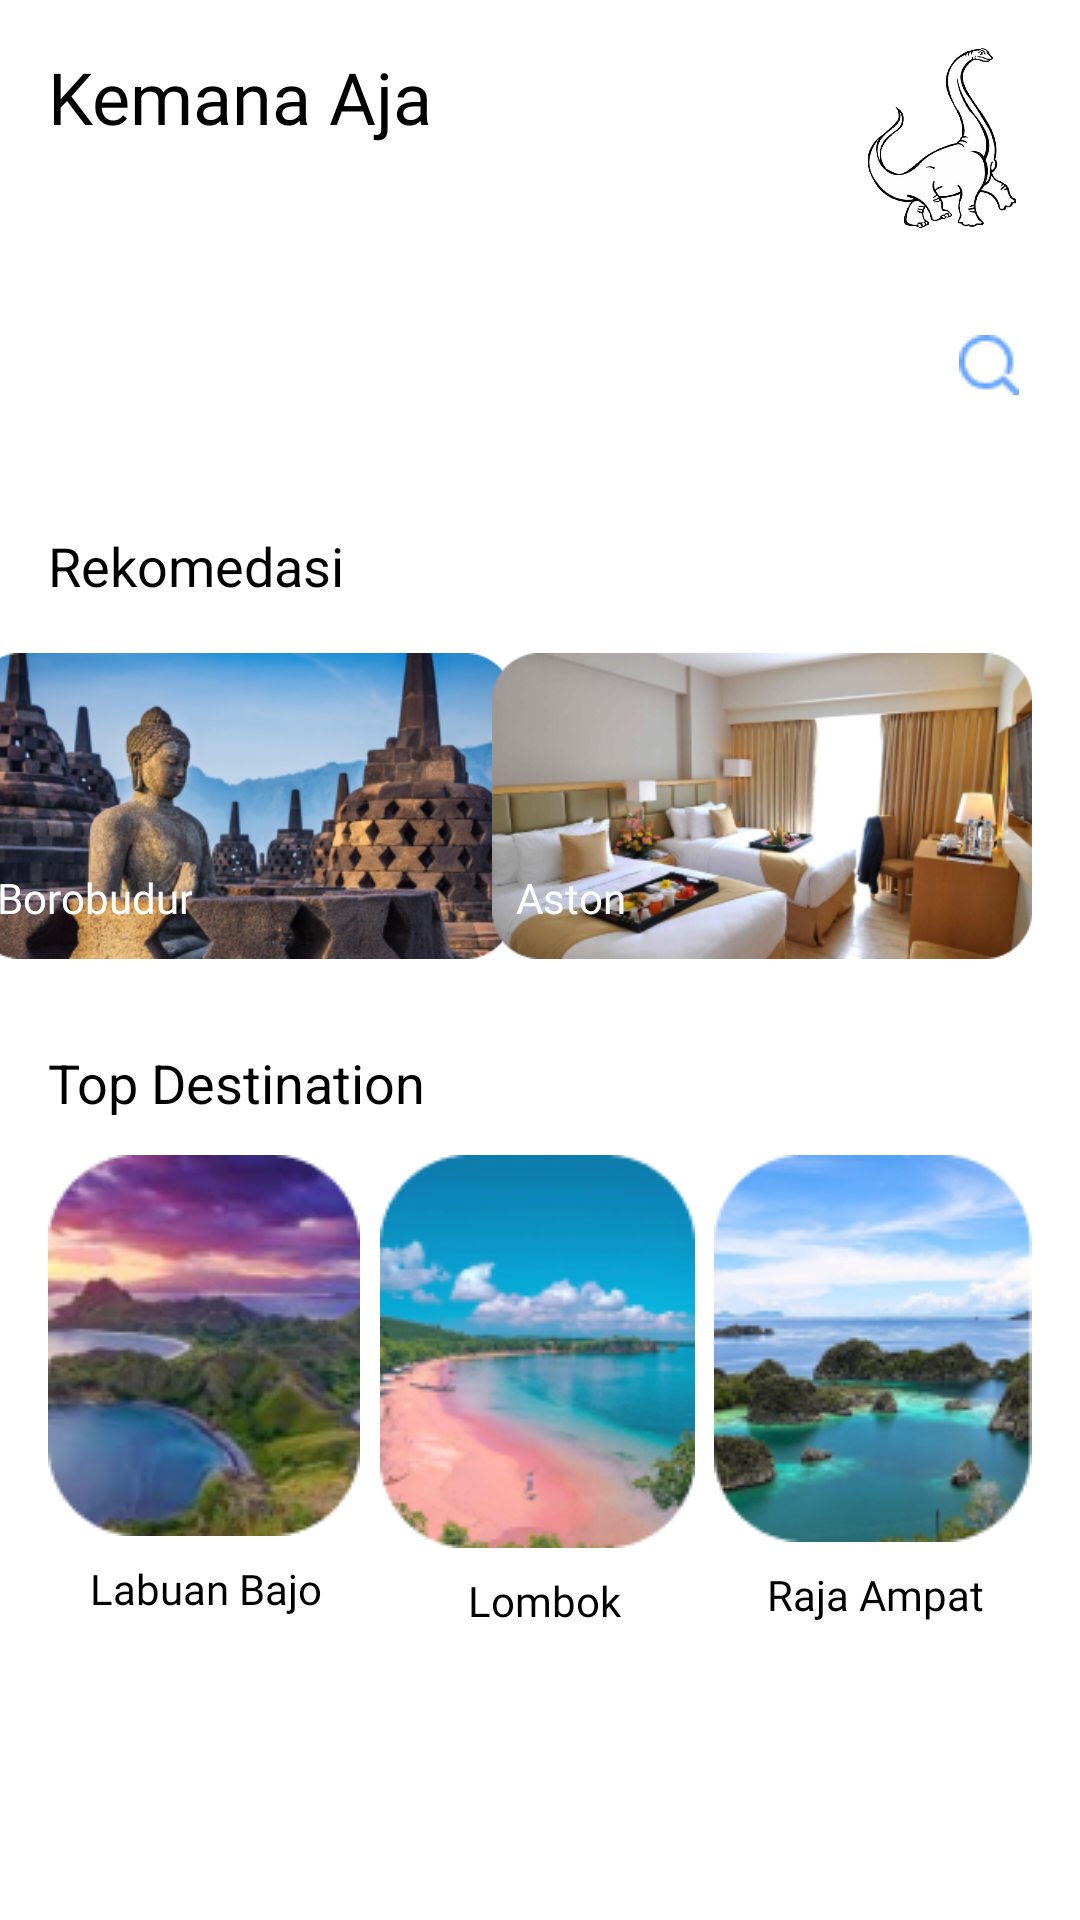

Named icons in this screenshot (1080*1920) and their bounding boxes, box=[x1, y1, x2, y2]:
dino: box=[868, 48, 1016, 228]
